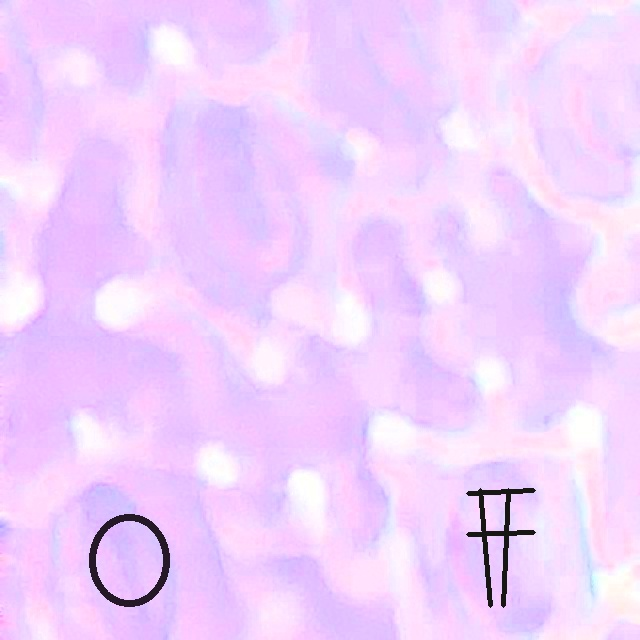close: (466, 488, 535, 607)
open: (88, 513, 170, 607)
